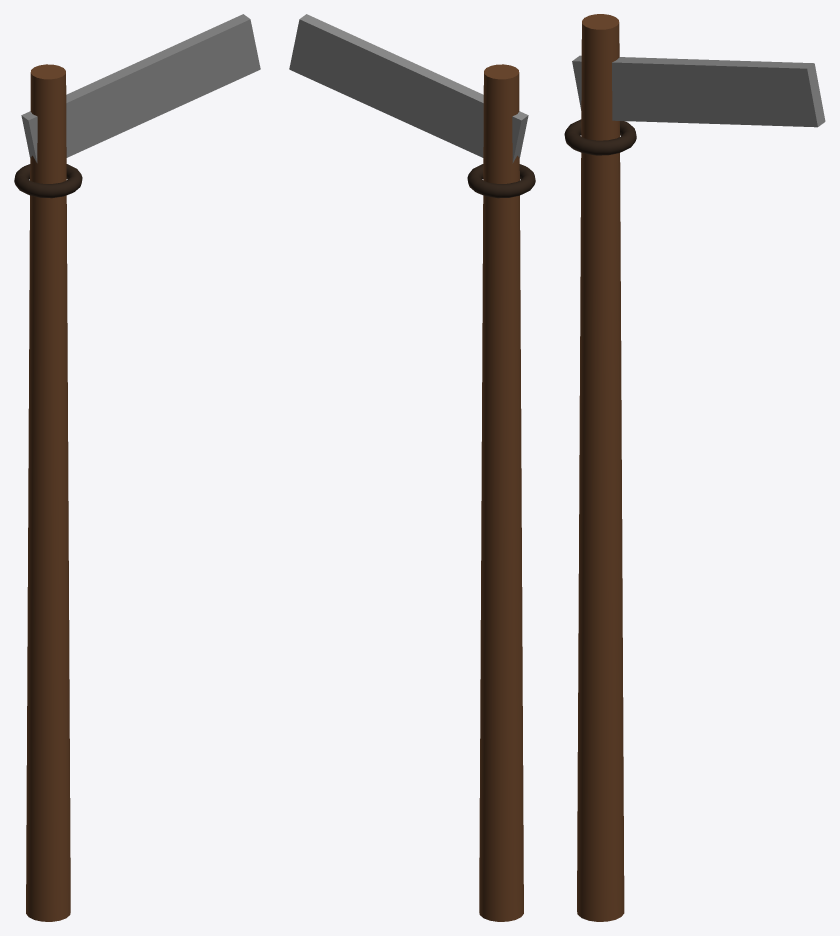
Rendered from stone_hoe.glb.
3 views of the same model, side by side, from view 1: azimuth 30°, elevation 25°; view 2: azimuth 150°, elevation 25°; view 3: azimuth 330°, elevation 25° (orthographic). The views are drawn at different scales.
Parts seen in each view (by area): view 1: handle, blade, binding; view 2: handle, blade, binding; view 3: handle, blade, binding.
Part boxes in pixels (left/top/right/bottom): handle: left=26, top=64, right=70, bottom=921; blade: left=21, top=14, right=260, bottom=163; binding: left=14, top=164, right=82, bottom=198; handle: left=479, top=64, right=523, bottom=921; blade: left=289, top=14, right=528, bottom=163; binding: left=467, top=164, right=535, bottom=198; handle: left=577, top=14, right=624, bottom=921; blade: left=572, top=55, right=825, bottom=127; binding: left=564, top=119, right=636, bottom=155.
Bounding box in the file's own units: 0.2318 × 0.7864 × 0.058.
